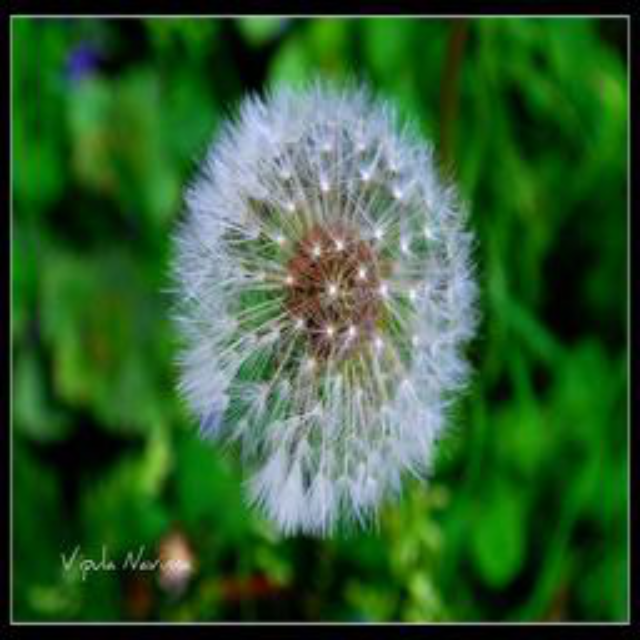dandelion: (158, 73, 489, 544)
